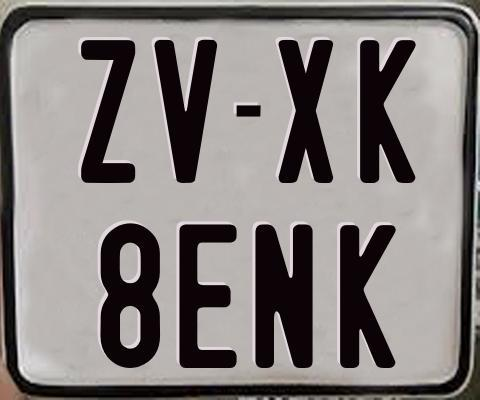8: (98, 221, 162, 368)
E: (179, 223, 243, 368)
K: (337, 222, 396, 370), (360, 38, 420, 182)
N: (253, 224, 315, 372)
V: (153, 38, 220, 183)
X: (276, 40, 331, 186)
Z: (79, 39, 134, 185)
